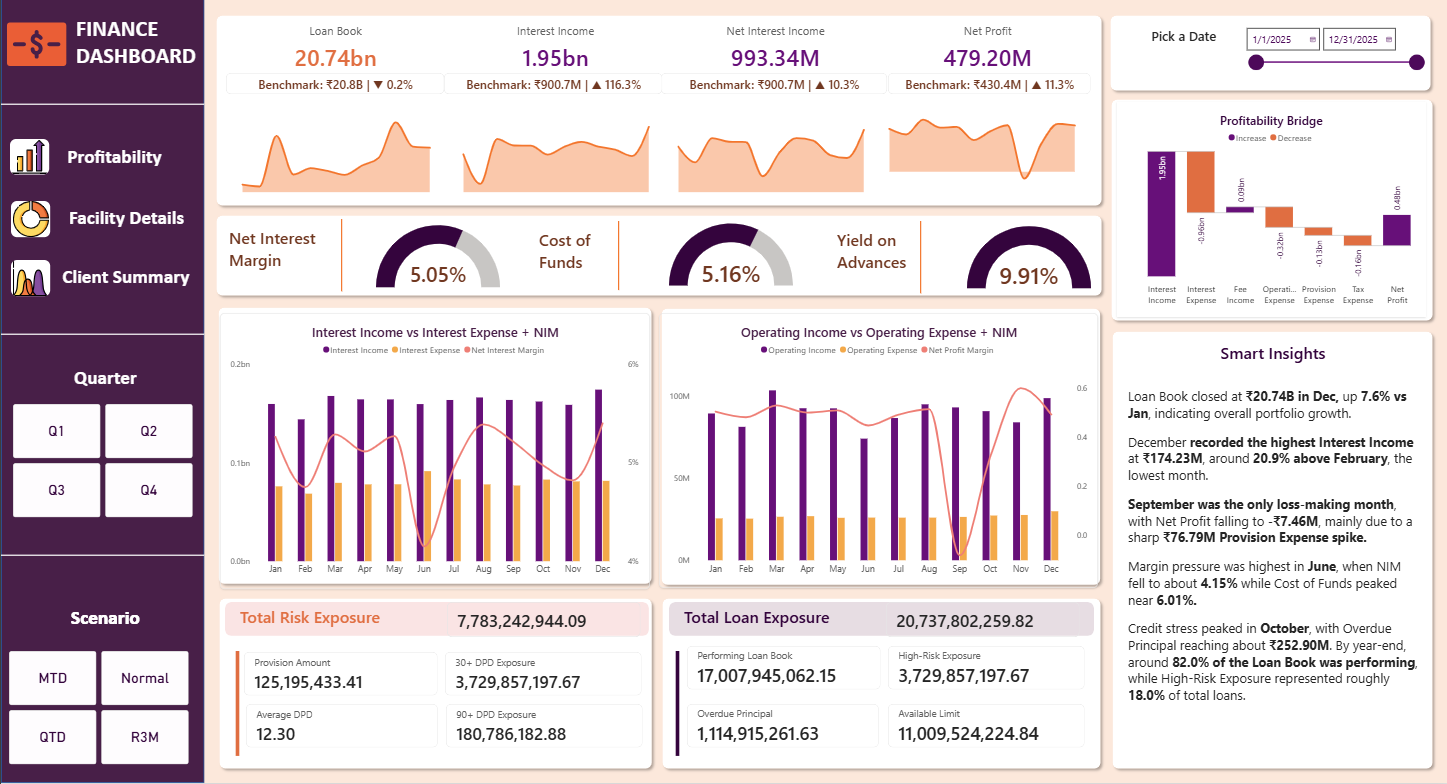

This screenshot's page, from the dashboard's own definition file:
{"tool":"powerbi","page":{"name":"Profitablility","canvas":[2400,1299],"ordinal":0},"visuals":[{"type":"shape","box":[0,0,337,1300],"z":0,"group":"g2"},{"type":"shape","box":[1831.1,18.2,549,142.6],"z":0},{"type":"cardVisual","fields":{"Data":["Z_Measures.Loan Book Benchmark Display"]},"box":[373,122.3,362.7,35.5],"z":0,"group":"g8"},{"type":"areaChart","fields":{"Category":["Dim_date.Month"],"Y":["Z_Measures.Interest Income"]},"box":[740,171.4,362,165.5],"z":0,"group":"g10"},{"type":"shape","box":[348.3,18.2,1486.1,333.4],"z":1000,"group":"g4"},{"type":"cardVisual","fields":{"Data":["Z_Measures.Net Profit Benchmark Display"]},"box":[1471.1,122.3,336.3,35.5],"z":1000,"group":"g8"},{"type":"areaChart","fields":{"Category":["Dim_date.Month"],"Y":["Z_Measures.Loan Book"]},"box":[373,171.4,365.3,165.5],"z":1000,"group":"g10"},{"type":"shape","box":[1834.4,542.4,549,743.1],"z":1000},{"type":"shape","box":[353.3,985.2,735,300.2],"z":1000,"group":"g1"},{"type":"group","id":"g1","title":"Group 14","box":[353.3,985.2,735,300.2],"z":1000,"group":"g9"},{"type":"image","box":[6.8,16.9,104.8,116.6],"z":2000,"group":"g2"},{"type":"slicer","fields":{"Values":["Dim_date.Date"]},"box":[2058.6,43.9,305.9,89.6],"z":2000},{"type":"cardVisual","fields":{"Data":["Z_Measures.Net Interest Income Benchmark Display"]},"box":[1095.2,122.3,375.9,35.5],"z":2000,"group":"g8"},{"type":"areaChart","fields":{"Category":["Dim_date.Month"],"Y":["Z_Measures.Net Interest Income"]},"box":[1096.9,171.4,362,165.5],"z":2000,"group":"g10"},{"type":"shape","box":[348.3,350,1486.1,150.9],"z":2000,"group":"g6"},{"type":"group","id":"g2","title":"Group 7","box":[0,0,346.5,1300],"z":3000},{"type":"cardVisual","fields":{"Data":["Z_Measures.Interest Income Benchmark Display"]},"box":[734.1,122.3,362.7,35.5],"z":3000,"group":"g8"},{"type":"shape","box":[0,161,337,27.3],"z":3000,"group":"g2"},{"type":"areaChart","fields":{"Category":["Dim_date.Month"],"Y":["Z_Measures.Net Profit"]},"box":[1445.4,169.7,362,165.5],"z":3000,"group":"g10"},{"type":"shape","box":[351.6,502.6,736.2,476.5],"z":3000,"group":"g15"},{"type":"shape","box":[1088.3,985.2,744.4,300.2],"z":3000,"group":"g9"},{"type":"textbox","box":[937.3,27.7,338.6,49],"z":4000},{"type":"image","box":[25,233.6,65.2,59.4],"z":4000,"group":"g2"},{"type":"textbox","box":[1889.8,47.1,144.6,42.2],"z":5000},{"type":"image","box":[26.1,337.1,65,60],"z":5000,"group":"g2"},{"type":"shape","box":[1087.1,503.8,745.6,476.5],"z":5000,"group":"g13"},{"type":"shape","box":[1108,1000.1,704.9,56.4],"z":5000,"group":"g9"},{"type":"image","box":[26.1,435,65,60],"z":6000,"group":"g2"},{"type":"textbox","box":[0,998.7,346.5,49],"z":6000},{"type":"group","id":"g3","title":"Group 10","box":[1832.8,157.6,550.7,384.8],"z":7000},{"type":"shape","box":[1832.8,157.6,550.7,384.8],"z":7000,"group":"g3"},{"type":"textbox","box":[107.3,233.9,161,59.4],"z":7000,"group":"g2"},{"type":"group","id":"g4","title":"Group 11","box":[348.3,18.2,1486.1,333.4],"z":8000},{"type":"textbox","box":[95.8,335.5,224.3,59.4],"z":8000,"group":"g2"},{"type":"group","id":"g5","title":"Group 1","box":[373.3,41.7,1433.5,79.9],"z":9000,"group":"g4"},{"type":"group","id":"g6","title":"Group 12","box":[348.3,350,1486.1,150.9],"z":9000},{"type":"textbox","box":[95.1,433.4,224.7,59.4],"z":9000,"group":"g2"},{"type":"group","id":"g7","title":"Group 13","box":[351.6,502.6,1481.1,477.7],"z":10000},{"type":"group","id":"g8","title":"Group 2","box":[373,122.3,1434.4,35.5],"z":11000,"group":"g4"},{"type":"shape","box":[0,542.5,337,27.3],"z":11000,"group":"g2"},{"type":"group","id":"g9","title":"Group 15","box":[353.3,985.2,1479.5,300.2],"z":11000},{"type":"shape","box":[371.1,999.8,703.2,56.4],"z":11000,"group":"g1"},{"type":"group","id":"g10","title":"Group 3","box":[373,169.7,1434.4,167.2],"z":12000,"group":"g4"},{"type":"textbox","box":[1869.2,568.9,481,56.4],"z":12000},{"type":"group","id":"g11","title":"Group 4","box":[378.8,365.1,449.5,123.2],"z":13000,"group":"g6"},{"type":"textbox","box":[1869.2,625.3,481,630.3],"z":13000},{"type":"shape","box":[0,234.1,25.7,62.5],"z":14000},{"type":"group","id":"g12","title":"Group 5","box":[892.3,364.9,421.3,117.8],"z":14000,"group":"g6"},{"type":"group","id":"g13","title":"Group 8","box":[1087.1,503.8,745.6,476.5],"z":14000,"group":"g7"},{"type":"cardVisual","fields":{"Data":["Z_Measures.Performing Loan Book"]},"box":[1137.8,1073.1,321.8,73],"z":14000,"group":"g9"},{"type":"group","id":"g14","title":"Group 6","box":[1386.6,366.6,421.3,122.7],"z":15000,"group":"g6"},{"type":"shape","box":[1093,1081.4,58.1,174.2],"z":15000,"group":"g9"},{"type":"cardVisual","fields":{"Data":["Z_Measures.Overdue Principal"]},"box":[1137.8,1169.3,318.5,73],"z":16000,"group":"g9"},{"type":"lineClusteredColumnComboChart","title":"Interest Income vs Interest Expense + NIM","fields":{"Category":["Dim_date.Month"],"Y":["Z_Measures.Interest Income","Z_Measures.Interest Expense"],"Y2":["Z_Measures.Net Interest Margin"]},"box":[362.6,521.4,712.7,457.7],"z":17000,"group":"g15"},{"type":"cardVisual","fields":{"Data":["Z_Measures.High-Risk Exposure"]},"box":[1471.2,1073.1,326.7,73],"z":17000,"group":"g9"},{"type":"group","id":"g15","title":"Group 9","box":[351.6,502.6,736.2,476.5],"z":18000,"group":"g7"},{"type":"lineClusteredColumnComboChart","title":"Operating Income  vs Operating Expense + NIM","fields":{"Category":["Dim_date.Month"],"Y":["Z_Measures.Operating Income","Z_Measures.Operating Expense"],"Y2":["Z_Measures.Net Profit Margin"]},"box":[1092.6,520.4,728.5,456.1],"z":18000,"group":"g13"},{"type":"cardVisual","fields":{"Data":["Z_Measures.Available Limit"]},"box":[1471.2,1169.3,326.7,73],"z":18000,"group":"g9"},{"type":"shape","box":[363.3,1081.4,58.1,174.2],"z":19000,"group":"g9"},{"type":"waterfallChart","title":"Profitability Bridge ","fields":{"Category":["Profitability_Bridge.Stage"],"Y":["Z_Measures.Profitability Bridge Value"]},"box":[1851.3,170.4,511.8,357.2],"z":20000,"group":"g3"},{"type":"advancedSlicerVisual","fields":{"Values":["Dim_date.Quarter"]},"box":[19.2,670.9,299,189.8],"z":20000,"group":"g2"},{"type":"textbox","box":[397,1007,282,58.1],"z":20000,"group":"g9"},{"type":"textbox","box":[0,998.7,346.5,49],"z":21000,"group":"g2"},{"type":"textbox","box":[1133,1007,280,58.1],"z":21000,"group":"g9"},{"type":"shape","box":[0,908.6,337,27.3],"z":22000,"group":"g2"},{"type":"cardVisual","fields":{"Data":["Z_Measures.Provision Amount"]},"box":[403.1,1083.1,321.8,73],"z":22000,"group":"g9"},{"type":"textbox","box":[0,600,346.5,49],"z":23000,"group":"g2"},{"type":"cardVisual","fields":{"Data":["Z_Measures.Average DPD"]},"box":[406.4,1169.3,318.5,73],"z":23000,"group":"g9"},{"type":"advancedSlicerVisual","fields":{"Values":["Calculation Group.Time Period"]},"box":[13.4,1081.2,299,189.8],"z":24000,"group":"g2"},{"type":"cardVisual","fields":{"Data":["Z_Measures.30+ DPD Exposure"]},"box":[736.5,1083.1,326.7,73],"z":24000,"group":"g9"},{"type":"cardVisual","fields":{"Data":["Z_Measures.Interest Income"]},"box":[738.3,41.7,365,79.9],"z":25000,"group":"g5"},{"type":"cardVisual","fields":{"Data":["Z_Measures.90+ DPD Exposure"]},"box":[738.1,1169.3,326.7,73],"z":25000,"group":"g9"},{"type":"cardVisual","fields":{"Data":["Z_Measures.Loan Book"]},"box":[373.3,41.7,365,79.9],"z":26000,"group":"g5"},{"type":"cardVisual","fields":{"Data":["Z_Measures.Total Risk Exposure"]},"box":[739.8,1000.1,321.8,58.1],"z":26000,"group":"g9"},{"type":"cardVisual","fields":{"Data":["Z_Measures.Net Profit"]},"box":[1468.4,41.7,338.3,79.9],"z":27000,"group":"g5"},{"type":"cardVisual","fields":{"Data":["Z_Measures.Loan Book"]},"box":[1467.9,1000.1,321.8,58.1],"z":27000,"group":"g9"},{"type":"cardVisual","fields":{"Data":["Z_Measures.Net Interest Income"]},"box":[1103.4,41.7,365,79.9],"z":28000,"group":"g5"},{"type":"textbox","box":[378.8,378.4,215.6,109.9],"z":28000,"group":"g11"},{"type":"textbox","box":[892.3,380.8,215.5,101.8],"z":28000,"group":"g12"},{"type":"textbox","box":[1386.6,381.6,192.2,106.6],"z":28000,"group":"g14"},{"type":"gauge","fields":{"Y":["Z_Measures.Cost of Funds"]},"box":[1107.8,364.9,205.5,117.8],"z":30000,"group":"g12"},{"type":"gauge","fields":{"Y":["Z_Measures.Net Interest Margin"]},"box":[622.8,365.1,205.5,123.2],"z":30000,"group":"g11"},{"type":"gauge","fields":{"Y":["Z_Measures.Yield on Advances"]},"box":[1602.2,366.6,205.5,123.2],"z":30000,"group":"g14"},{"type":"shape","box":[535.9,365.1,58.5,119.9],"z":31000,"group":"g11"},{"type":"shape","box":[1000.9,368.1,48.5,114.6],"z":31000,"group":"g12"},{"type":"shape","box":[1495.2,368.3,61.8,119.9],"z":31000,"group":"g14"},{"type":"textbox","box":[124.9,25,211.5,96.6],"z":31500,"group":"g2"}]}

Visuals, with their boxes in screenshot pixels (x1, y1, x2, y2), scaled from the page's 2400x1299 canvas onto the 1447x784 screenshot:
shape: (x1=0, y1=0, x2=203, y2=783)
shape: (x1=1104, y1=11, x2=1435, y2=97)
cardVisual - Z_Measures.Loan Book Benchmark Display: (x1=225, y1=74, x2=444, y2=95)
areaChart - Dim_date.Month x Z_Measures.Interest Income: (x1=446, y1=103, x2=664, y2=203)
shape: (x1=210, y1=11, x2=1106, y2=212)
cardVisual - Z_Measures.Net Profit Benchmark Display: (x1=887, y1=74, x2=1090, y2=95)
areaChart - Dim_date.Month x Z_Measures.Loan Book: (x1=225, y1=103, x2=445, y2=203)
shape: (x1=1106, y1=327, x2=1437, y2=776)
shape: (x1=213, y1=595, x2=656, y2=776)
"Group 14" group: (x1=213, y1=595, x2=656, y2=776)
image: (x1=4, y1=10, x2=67, y2=81)
slicer - Dim_date.Date: (x1=1241, y1=26, x2=1426, y2=81)
cardVisual - Z_Measures.Net Interest Income Benchmark Display: (x1=660, y1=74, x2=887, y2=95)
areaChart - Dim_date.Month x Z_Measures.Net Interest Income: (x1=661, y1=103, x2=880, y2=203)
shape: (x1=210, y1=211, x2=1106, y2=302)
"Group 7" group: (x1=0, y1=0, x2=209, y2=783)
cardVisual - Z_Measures.Interest Income Benchmark Display: (x1=443, y1=74, x2=661, y2=95)
shape: (x1=0, y1=97, x2=203, y2=114)
areaChart - Dim_date.Month x Z_Measures.Net Profit: (x1=871, y1=102, x2=1090, y2=202)
shape: (x1=212, y1=303, x2=656, y2=591)
shape: (x1=656, y1=595, x2=1105, y2=776)
textbox: (x1=565, y1=17, x2=769, y2=46)
image: (x1=15, y1=141, x2=54, y2=177)
textbox: (x1=1139, y1=28, x2=1227, y2=54)
image: (x1=16, y1=203, x2=55, y2=240)
shape: (x1=655, y1=304, x2=1105, y2=592)
shape: (x1=668, y1=604, x2=1093, y2=638)
image: (x1=16, y1=263, x2=55, y2=299)
textbox: (x1=0, y1=603, x2=209, y2=632)
"Group 10" group: (x1=1105, y1=95, x2=1437, y2=327)
shape: (x1=1105, y1=95, x2=1437, y2=327)
textbox: (x1=65, y1=141, x2=162, y2=177)
"Group 11" group: (x1=210, y1=11, x2=1106, y2=212)
textbox: (x1=58, y1=202, x2=193, y2=238)
"Group 1" group: (x1=225, y1=25, x2=1089, y2=73)
"Group 12" group: (x1=210, y1=211, x2=1106, y2=302)
textbox: (x1=57, y1=262, x2=193, y2=297)
"Group 13" group: (x1=212, y1=303, x2=1105, y2=592)
"Group 2" group: (x1=225, y1=74, x2=1090, y2=95)
shape: (x1=0, y1=327, x2=203, y2=344)
"Group 15" group: (x1=213, y1=595, x2=1105, y2=776)
shape: (x1=224, y1=603, x2=648, y2=637)
"Group 3" group: (x1=225, y1=102, x2=1090, y2=203)
textbox: (x1=1127, y1=343, x2=1417, y2=377)
"Group 4" group: (x1=228, y1=220, x2=499, y2=295)
textbox: (x1=1127, y1=377, x2=1417, y2=758)
shape: (x1=0, y1=141, x2=15, y2=179)
"Group 5" group: (x1=538, y1=220, x2=792, y2=291)
"Group 8" group: (x1=655, y1=304, x2=1105, y2=592)
cardVisual - Z_Measures.Performing Loan Book: (x1=686, y1=648, x2=880, y2=692)
"Group 6" group: (x1=836, y1=221, x2=1090, y2=295)
shape: (x1=659, y1=653, x2=694, y2=758)
cardVisual - Z_Measures.Overdue Principal: (x1=686, y1=706, x2=878, y2=750)
"Interest Income vs Interest Expense + NIM" lineClusteredColumnComboChart: (x1=219, y1=315, x2=648, y2=591)
cardVisual - Z_Measures.High-Risk Exposure: (x1=887, y1=648, x2=1084, y2=692)
"Group 9" group: (x1=212, y1=303, x2=656, y2=591)
"Operating Income  vs Operating Expense + NIM" lineClusteredColumnComboChart: (x1=659, y1=314, x2=1098, y2=589)
cardVisual - Z_Measures.Available Limit: (x1=887, y1=706, x2=1084, y2=750)
shape: (x1=219, y1=653, x2=254, y2=758)
"Profitability Bridge " waterfallChart: (x1=1116, y1=103, x2=1425, y2=318)
advancedSlicerVisual - Dim_date.Quarter: (x1=12, y1=405, x2=192, y2=519)
textbox: (x1=239, y1=608, x2=409, y2=643)
textbox: (x1=0, y1=603, x2=209, y2=632)
textbox: (x1=683, y1=608, x2=852, y2=643)
shape: (x1=0, y1=548, x2=203, y2=565)
cardVisual - Z_Measures.Provision Amount: (x1=243, y1=654, x2=437, y2=698)
textbox: (x1=0, y1=362, x2=209, y2=392)
cardVisual - Z_Measures.Average DPD: (x1=245, y1=706, x2=437, y2=750)
advancedSlicerVisual - Calculation Group.Time Period: (x1=8, y1=653, x2=188, y2=767)
cardVisual - Z_Measures.30+ DPD Exposure: (x1=444, y1=654, x2=641, y2=698)
cardVisual - Z_Measures.Interest Income: (x1=445, y1=25, x2=665, y2=73)
cardVisual - Z_Measures.90+ DPD Exposure: (x1=445, y1=706, x2=642, y2=750)
cardVisual - Z_Measures.Loan Book: (x1=225, y1=25, x2=445, y2=73)
cardVisual - Z_Measures.Total Risk Exposure: (x1=446, y1=604, x2=640, y2=639)
cardVisual - Z_Measures.Net Profit: (x1=885, y1=25, x2=1089, y2=73)
cardVisual - Z_Measures.Loan Book: (x1=885, y1=604, x2=1079, y2=639)
cardVisual - Z_Measures.Net Interest Income: (x1=665, y1=25, x2=885, y2=73)
textbox: (x1=228, y1=228, x2=358, y2=295)
textbox: (x1=538, y1=230, x2=668, y2=291)
textbox: (x1=836, y1=230, x2=952, y2=295)
gauge - Z_Measures.Cost of Funds: (x1=668, y1=220, x2=792, y2=291)
gauge - Z_Measures.Net Interest Margin: (x1=375, y1=220, x2=499, y2=295)
gauge - Z_Measures.Yield on Advances: (x1=966, y1=221, x2=1090, y2=296)
shape: (x1=323, y1=220, x2=358, y2=293)
shape: (x1=603, y1=222, x2=633, y2=291)
shape: (x1=901, y1=222, x2=939, y2=295)
textbox: (x1=75, y1=15, x2=203, y2=73)
